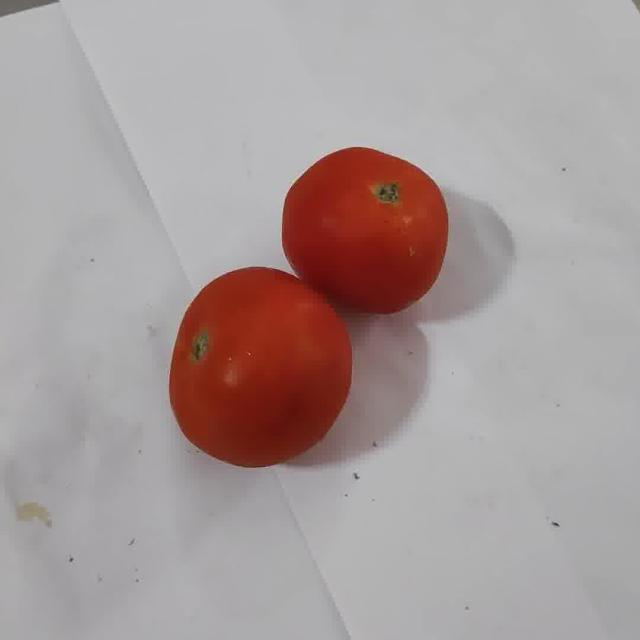Tomato: (169, 268, 350, 467), (282, 147, 449, 313)
